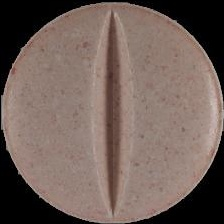0054-0098: (0, 0, 224, 224)
